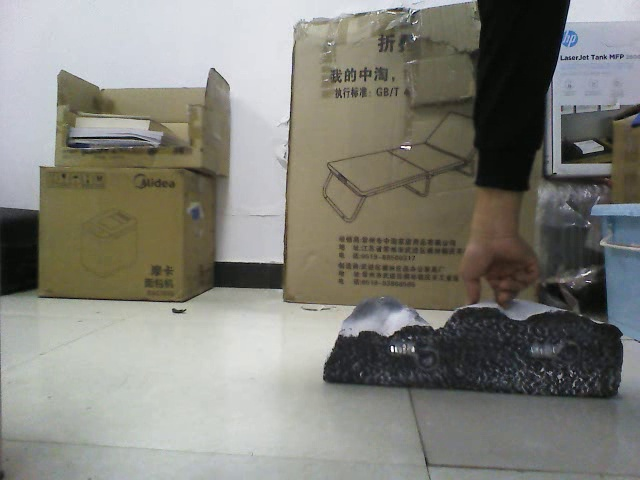rock: (322, 288, 628, 404)
